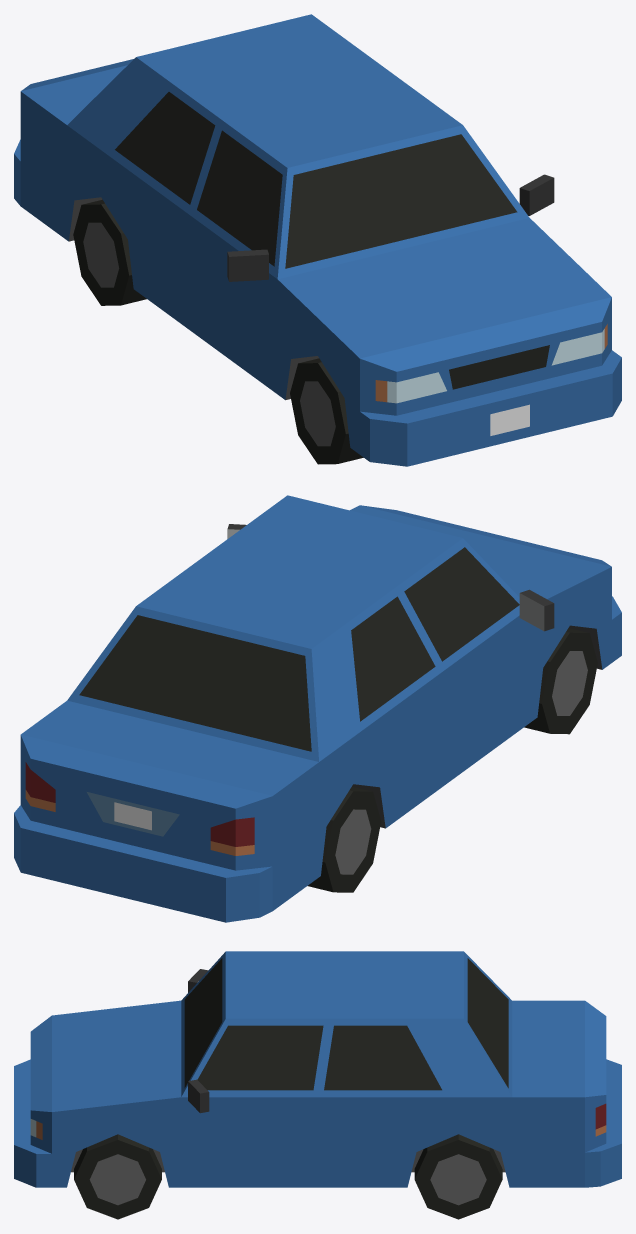
Rendered from Veh_Sedan_01_Blue.glb.
3 views of the same model, one above another, from view 1: azimuth 30°, elevation 25°; view 2: azimuth 150°, elevation 25°; view 3: azimuth 270°, elevation 25° (orthographic). The views are drawn at different scales.
Parts seen in each view (by area): view 1: Sedan_01_Blue, Wheel_FR, Wheel_RR; view 2: Sedan_01_Blue, Wheel_RR, Wheel_FR; view 3: Sedan_01_Blue, Wheel_RL, Wheel_FL.
Part boxes in pixels (x1,y1,x2,y2): Sedan_01_Blue: (14,14,621,466); Wheel_FR: (290,358,363,464); Wheel_RR: (73,199,146,305); Sedan_01_Blue: (14,495,621,922); Wheel_RR: (308,786,381,892); Wheel_FR: (524,628,597,734); Sedan_01_Blue: (14,951,621,1187); Wheel_RL: (414,1134,502,1219); Wheel_FL: (74,1134,161,1219).
Size of the model in its own units: 1.22 by 0.852 by 2.52.
Materials: 1 (1 with a texture image).
